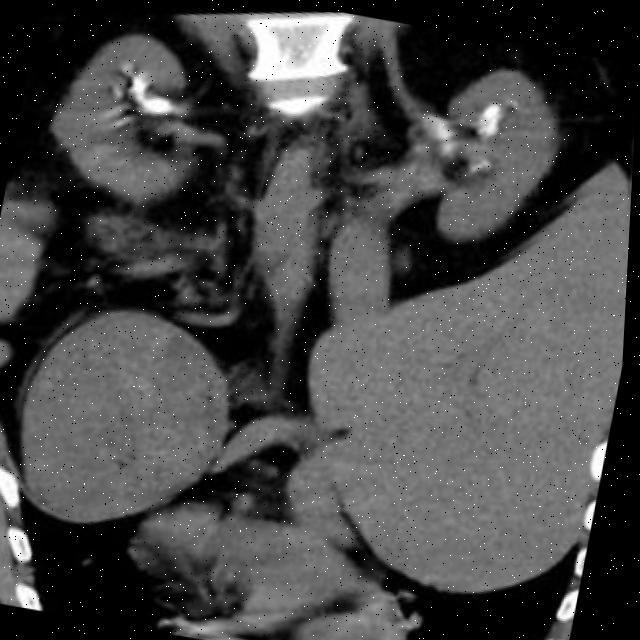Tas_Var: (133, 86, 182, 121), (118, 67, 159, 101), (471, 109, 508, 142), (475, 94, 503, 120), (465, 152, 495, 176)
